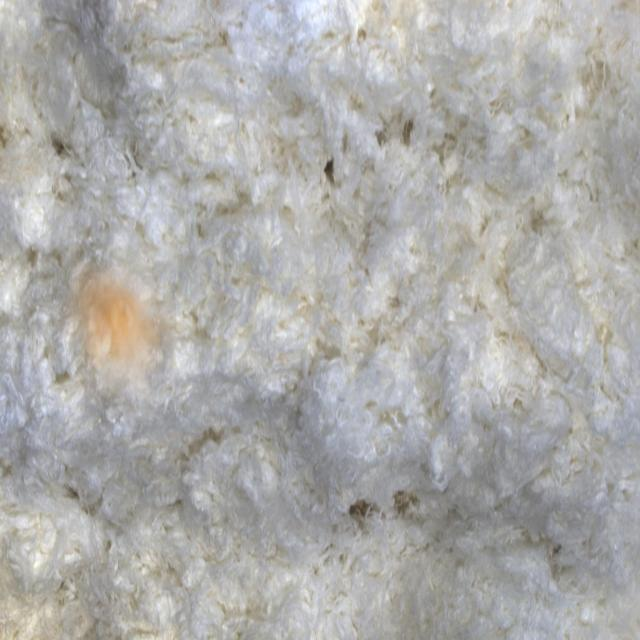dust: (52, 261, 176, 421)
